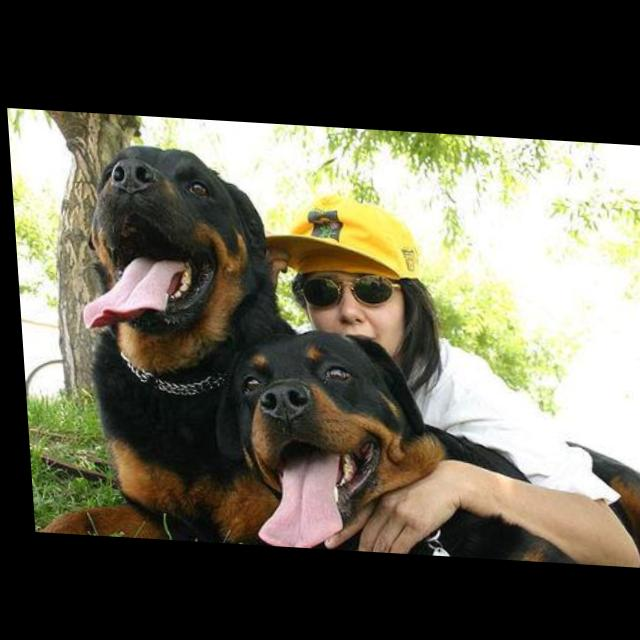face: (295, 253, 405, 355)
person: (259, 186, 638, 562)
rottweiler: (8, 137, 315, 546), (206, 323, 640, 563)
